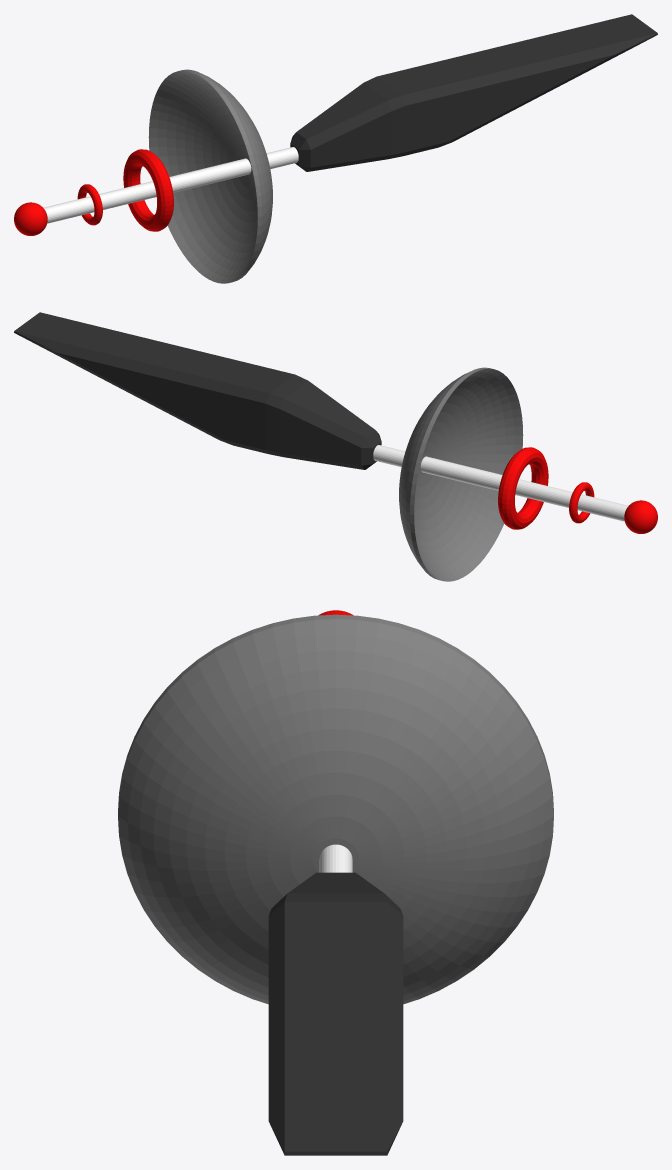
File: gun.fbx
3 views of the same model, one above another, from view 1: azimuth 30°, elevation 25°; view 2: azimuth 150°, elevation 25°; view 3: azimuth 270°, elevation 25° (orthographic). The views are drawn at different scales.
Parts seen in each view (by area): view 1: Cylinder; view 2: Cylinder; view 3: Cylinder.
Boxes of the visible parts, left/top/right/bottom form: Cylinder: left=14, top=14, right=657, bottom=283; Cylinder: left=14, top=312, right=657, bottom=581; Cylinder: left=118, top=610, right=553, bottom=1155.
Size of the model in its own units: 431 by 129 by 129.
